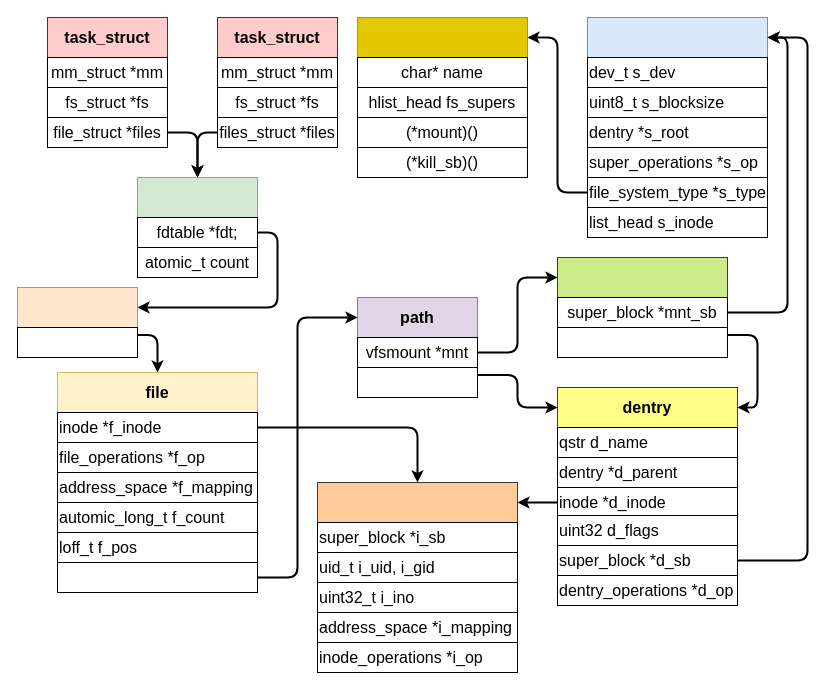
This 834x690 diagram has some shape labels left out. Each missing label, with the centre of its shape:
"dentry *dentry" goes at [417,382].
"dentry *mnt_root" goes at [642,342].
"fdtable" goes at [77,307].
"file *fd[]" goes at [77,342].
"file_system_type" goes at [442,37].
"files_struct" goes at [197,197].
"inode" goes at [417,502].
"path f_path" goes at [157,577].
"super_block" goes at [677,37].
"vfsmount" goes at [642,277].
